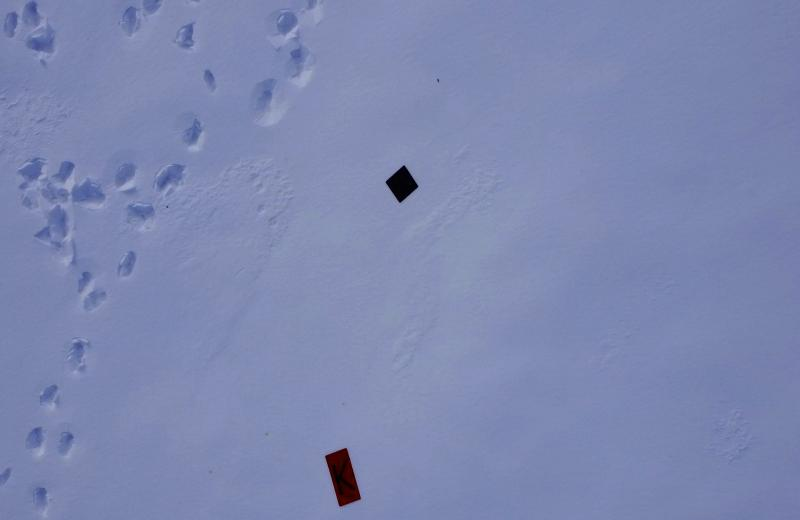Rectangle: (325, 447, 364, 508)
Square: (387, 164, 422, 204)
